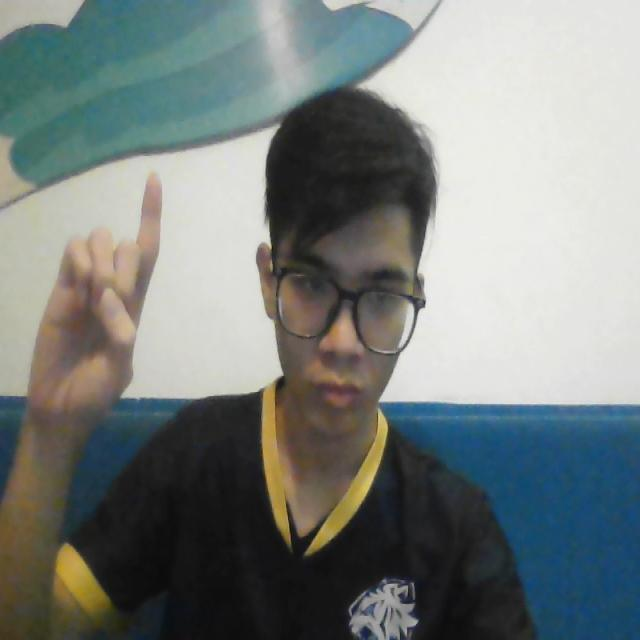D: (44, 164, 174, 425)
